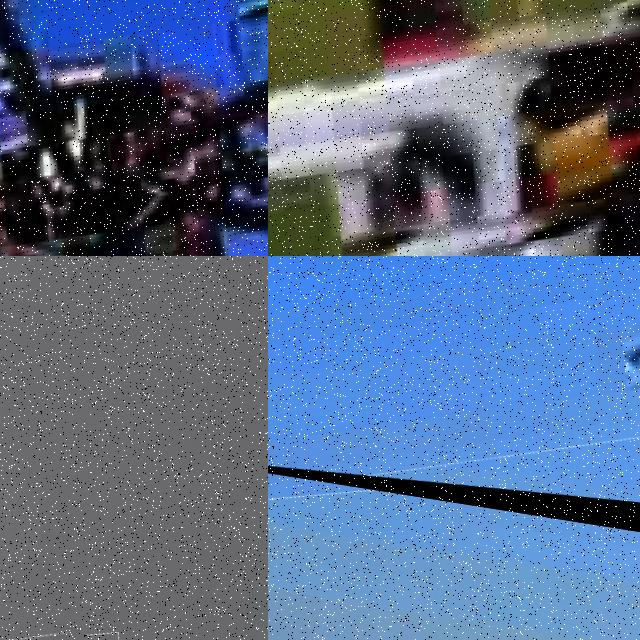drone: (268, 256, 640, 554), (268, 0, 640, 256), (0, 0, 268, 256), (0, 620, 122, 640)
